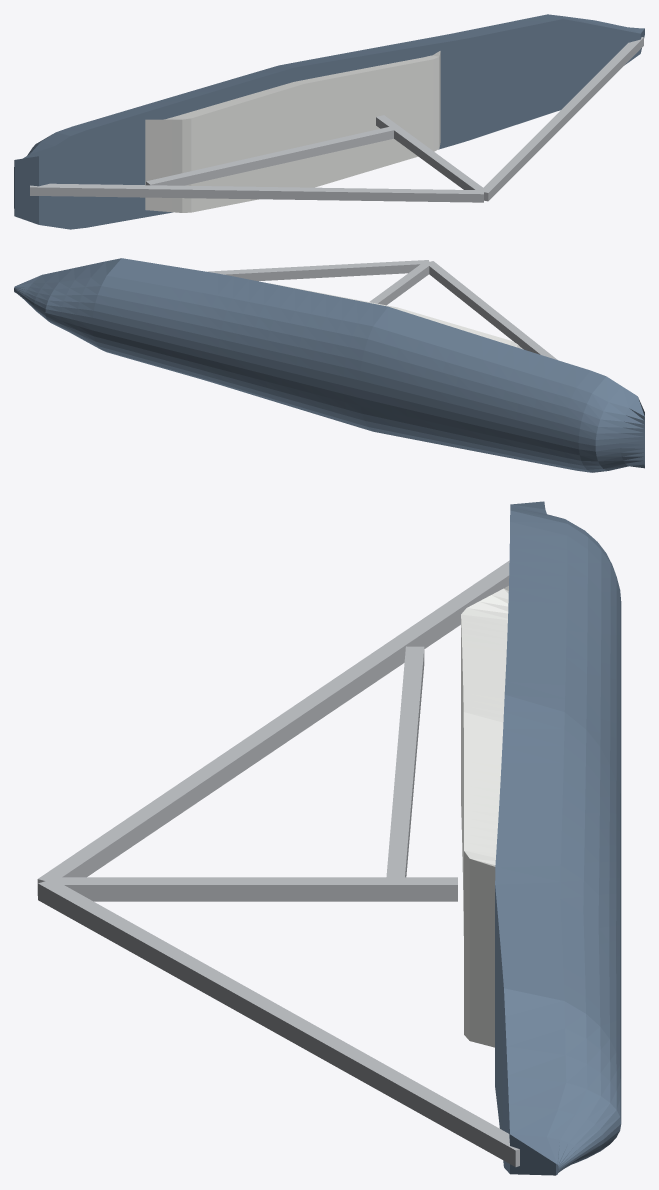
File: loft-sail-small-slender.glb
3 renders of one model, top to bottom at view 1: azimuth 30°, elevation 25°; view 2: azimuth 150°, elevation 25°; view 3: azimuth 270°, elevation 25°, orthographic. The views are drawn at different scales.
Visible parts, largest first — view 1: loft-sail-small-slender; view 2: loft-sail-small-slender; view 3: loft-sail-small-slender.
Part boxes in pixels (bbox=[...]): loft-sail-small-slender: bbox=[14, 14, 644, 229]; loft-sail-small-slender: bbox=[14, 258, 644, 472]; loft-sail-small-slender: bbox=[37, 501, 621, 1175].
Bounding box in the file's own units: 1.88 × 0.3519 × 0.7574.
